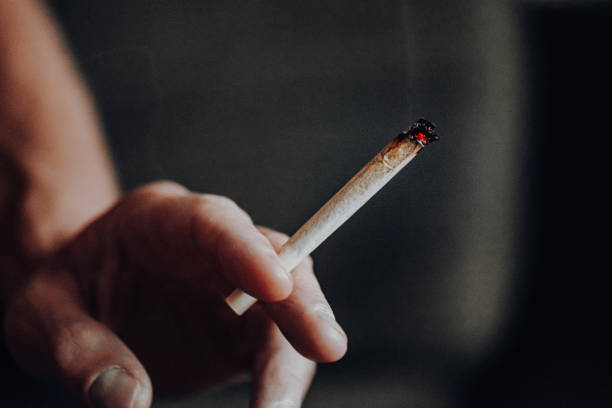cigarette: (223, 121, 439, 317)
